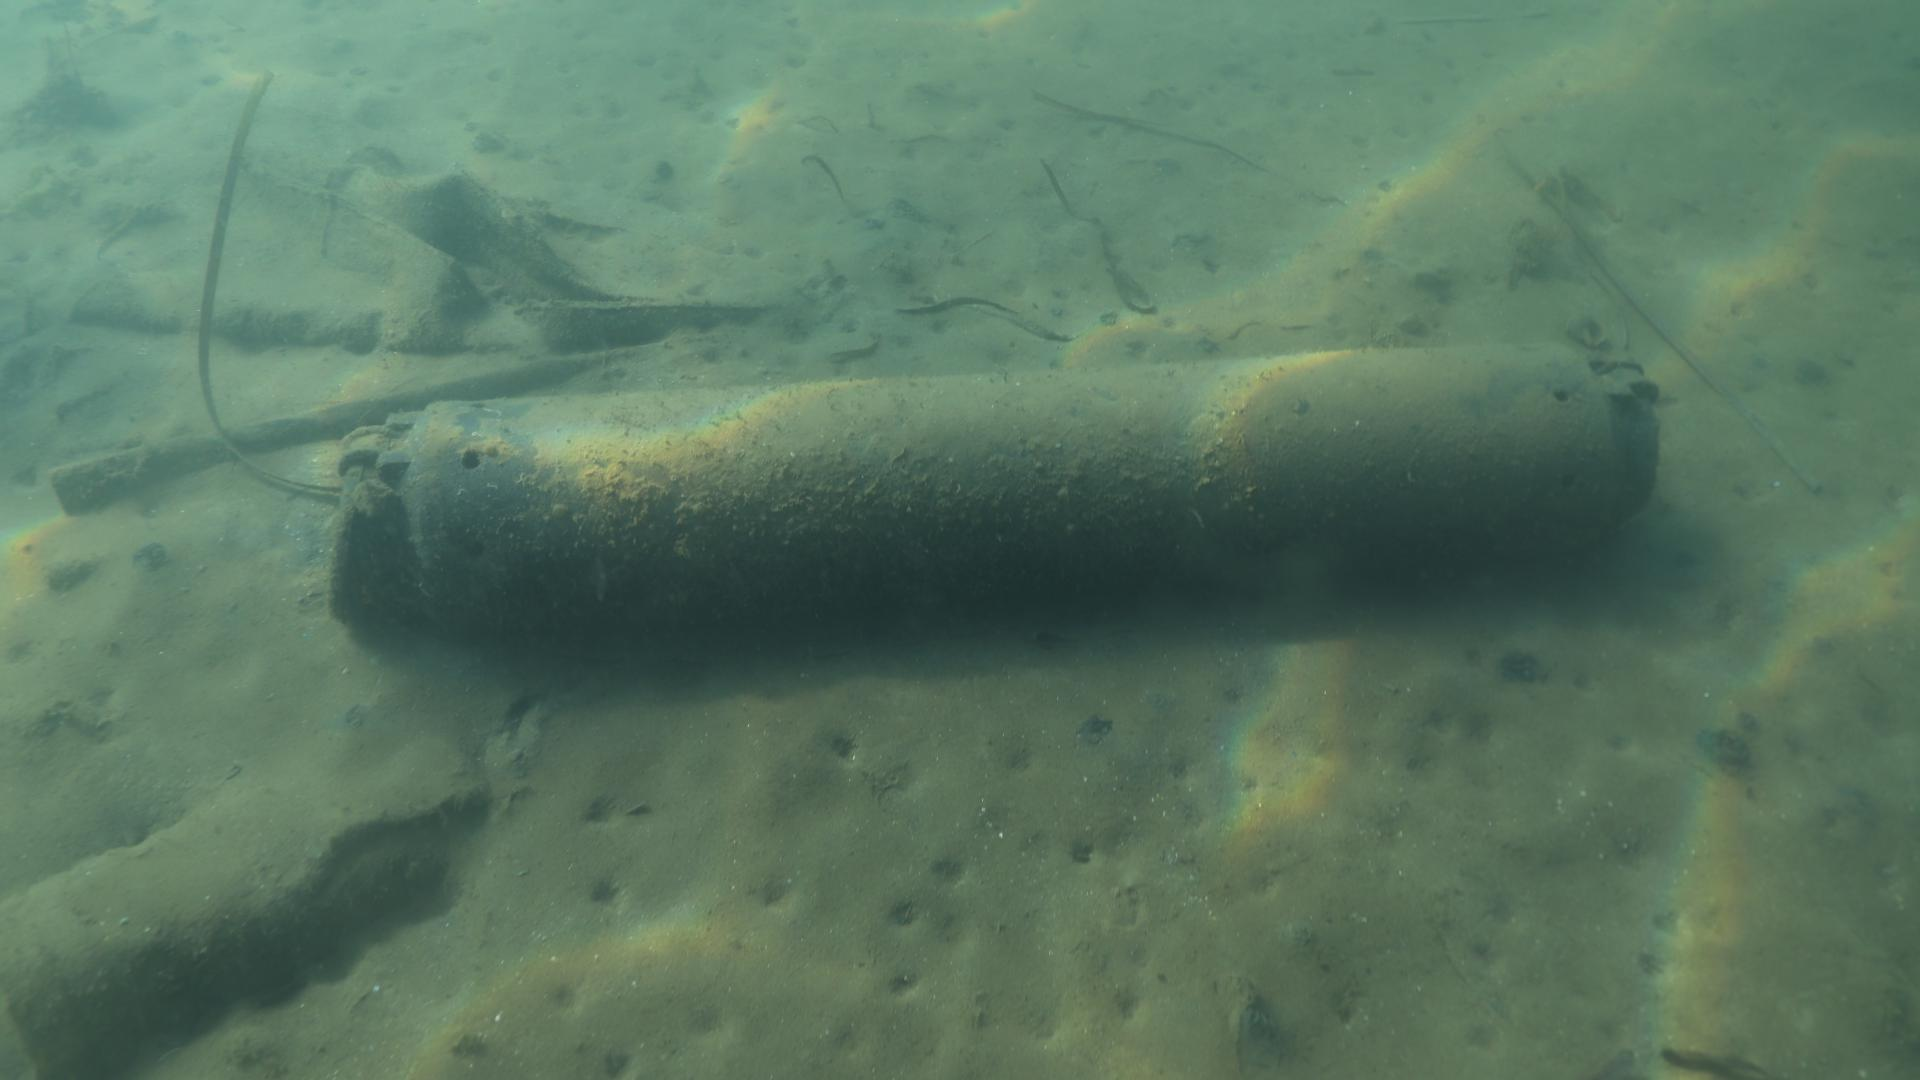eel fish trap: (330, 351, 1662, 636)
